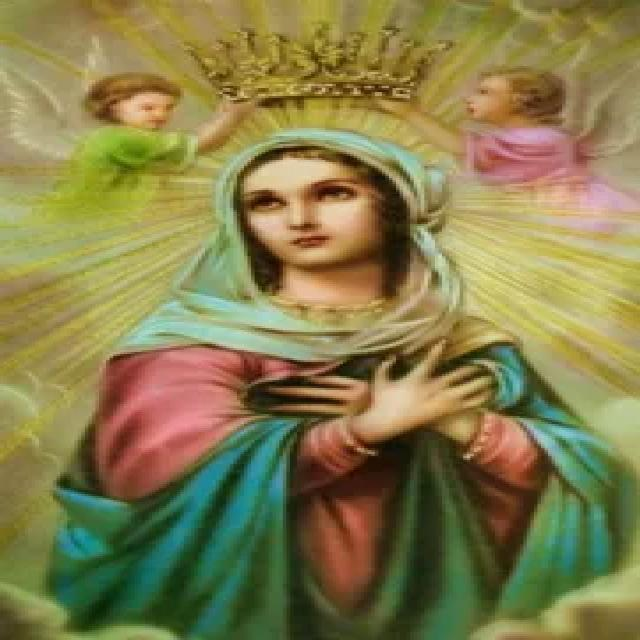mother of god: (22, 120, 640, 640)
